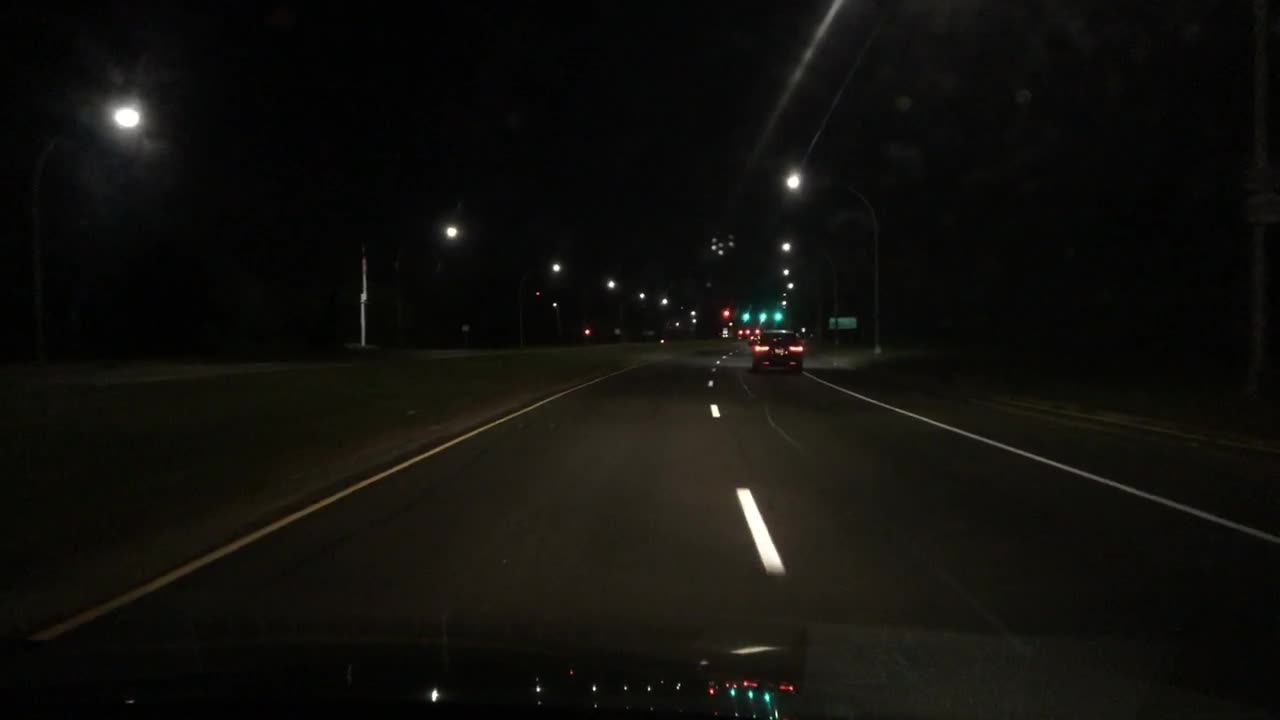car: (750, 324, 804, 373), (749, 325, 763, 341), (736, 326, 752, 338), (715, 326, 731, 337)
traffic light: (772, 311, 783, 321), (757, 311, 767, 322), (722, 307, 731, 319), (742, 312, 749, 322)
traffic sign: (826, 316, 857, 329)
